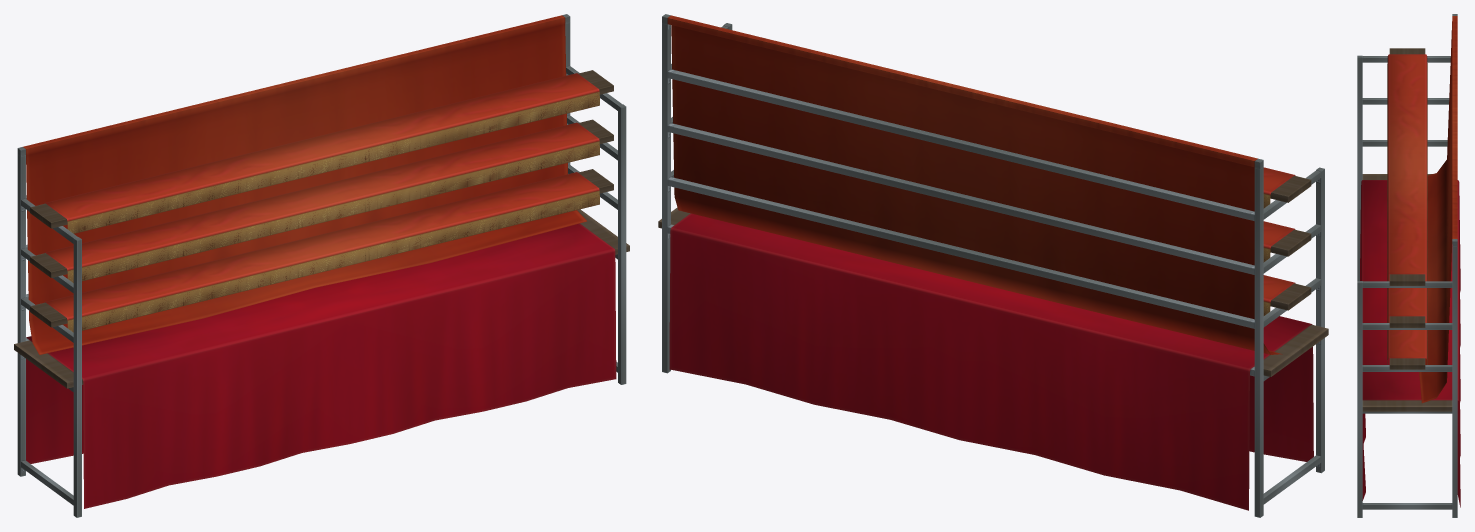
Rendered from jsf_Table_06.fbx.
3 views of the same model, side by side, from view 1: azimuth 30°, elevation 25°; view 2: azimuth 150°, elevation 25°; view 3: azimuth 270°, elevation 25° (orthographic). The views are drawn at different scales.
Parts seen in each view (by area): view 1: jsf_Table_06; view 2: jsf_Table_06; view 3: jsf_Table_06.
Part boxes in pixels (bbox=[...]): jsf_Table_06: bbox=[14, 14, 629, 517]; jsf_Table_06: bbox=[658, 14, 1328, 517]; jsf_Table_06: bbox=[1357, 14, 1460, 517].
Bounding box in the file's own units: 307 × 170 × 57.69.
